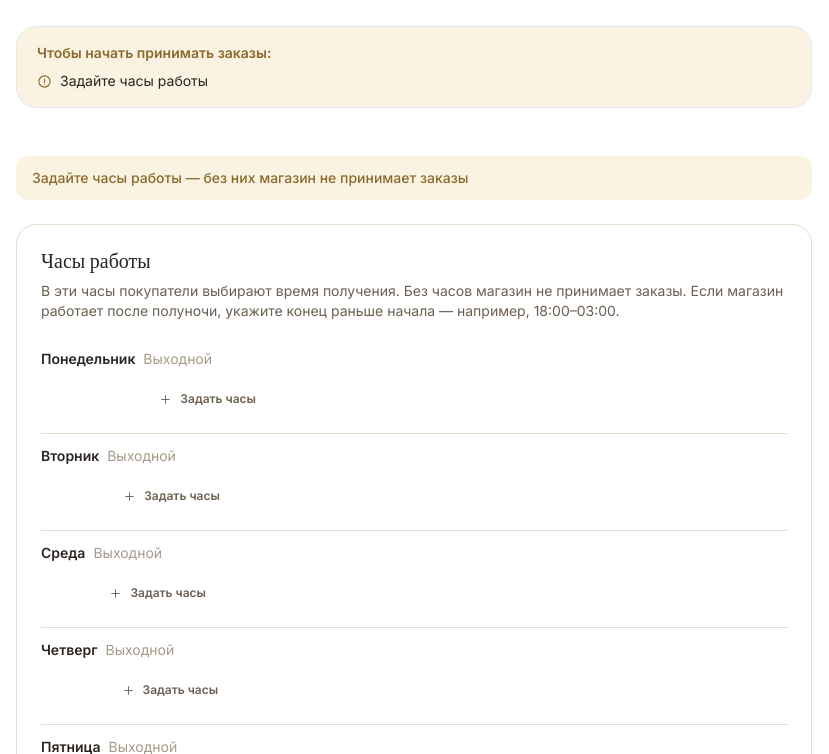
Scenario: HoursPage › prints the server text when the intervals overlap
Expected: the heading "Часы работы" is shown, [41,253,151,273]
Click the button "Задать часы" below "Понедельник".
click(208, 399)  # box [143,377,272,421]
(page scrolled)
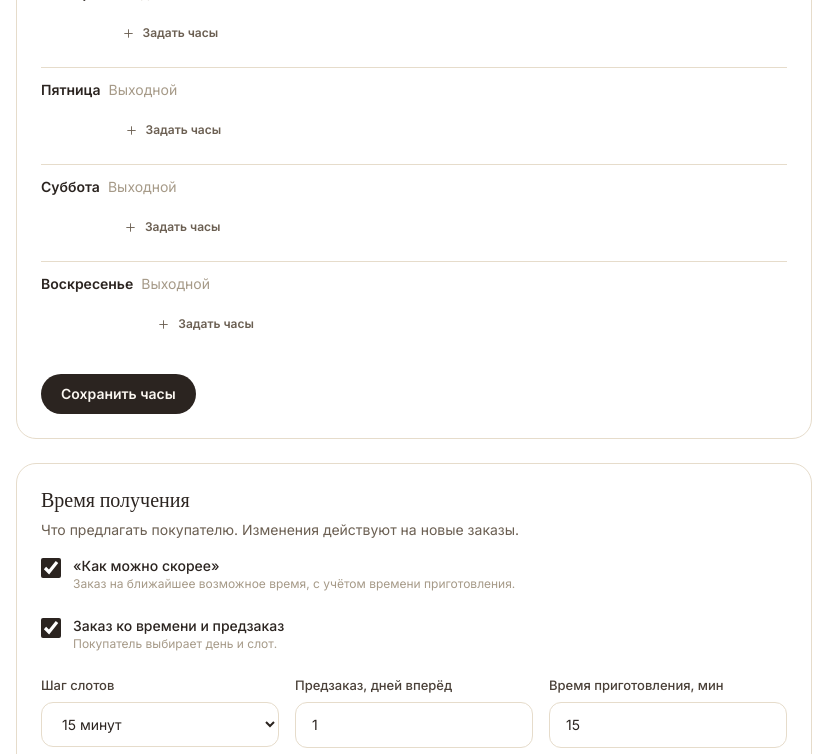
Click the button "Сохранить часы".
click(118, 394)  # box [41,374,196,414]
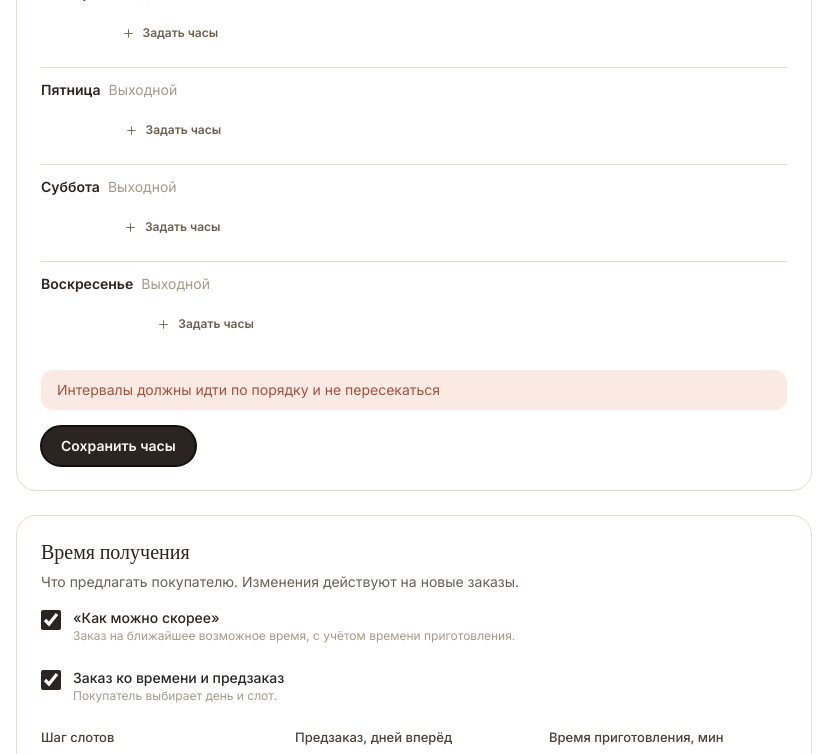
Expected: the text "Интервалы должны идти по порядку и не пересекаться" is shown, [41,370,787,410]
